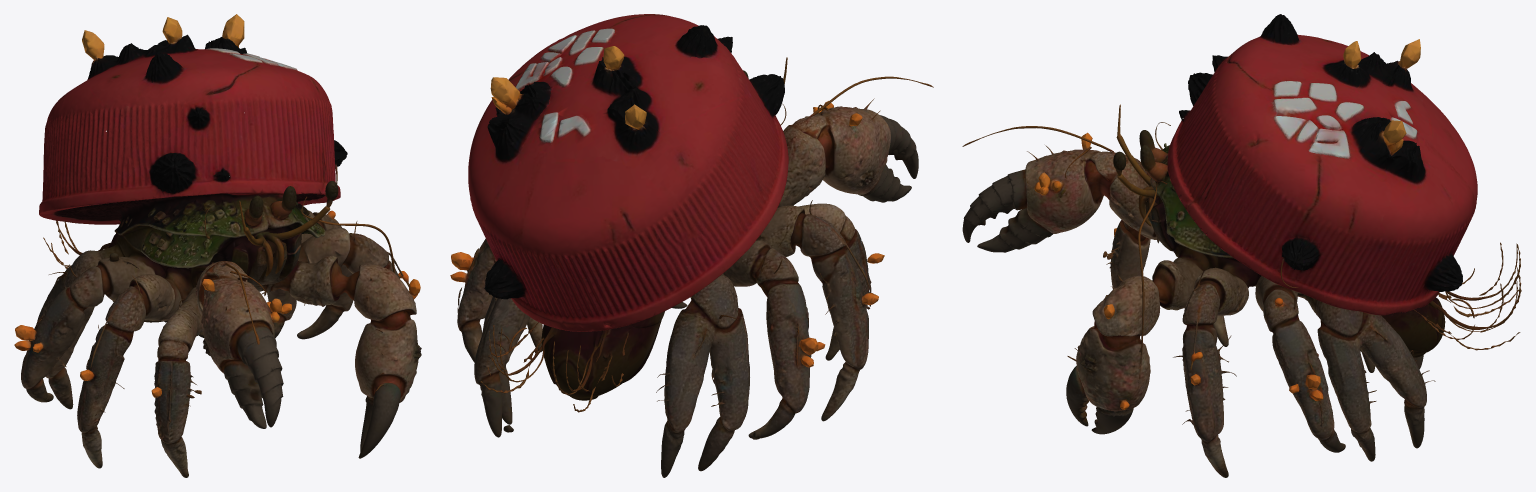
Rendered from bxie.glb.
3 views of the same model, side by side, from view 1: azimuth 30°, elevation 25°; view 2: azimuth 150°, elevation 25°; view 3: azimuth 270°, elevation 25° (orthographic). The views are drawn at different scales.
Parts seen in each view (by area): view 1: tripo_node_12a860db-d77a-4aff-a58c-3a27697ab0b1; view 2: tripo_node_12a860db-d77a-4aff-a58c-3a27697ab0b1; view 3: tripo_node_12a860db-d77a-4aff-a58c-3a27697ab0b1.
Boxes of the visible parts, bbox=[...] form: tripo_node_12a860db-d77a-4aff-a58c-3a27697ab0b1: bbox=[14, 14, 421, 477]; tripo_node_12a860db-d77a-4aff-a58c-3a27697ab0b1: bbox=[450, 14, 933, 477]; tripo_node_12a860db-d77a-4aff-a58c-3a27697ab0b1: bbox=[962, 14, 1521, 477].
Bounding box in the file's own units: 0.7134 × 0.7442 × 0.9954.
1 material, 1 textured.
